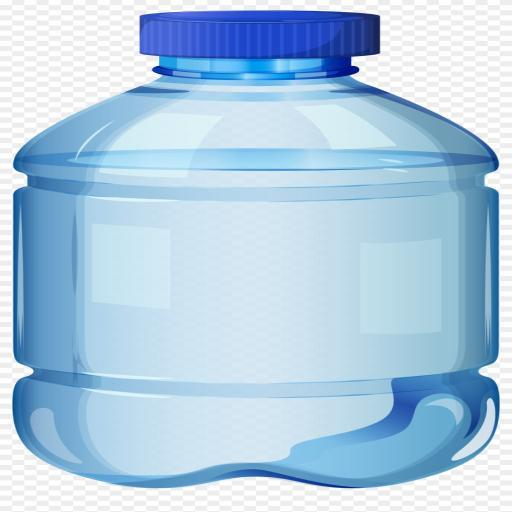bottle: (0, 2, 512, 496)
